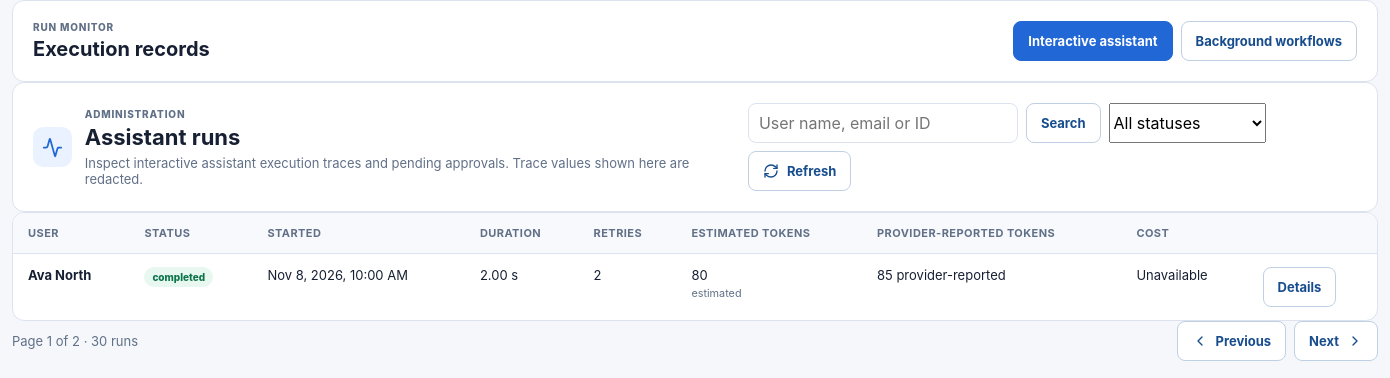
it: AdminAssistantRunsPage › paginates using server has_more and page totals
expect the table named "Assistant runs" is shown: met, box [13,213,1377,320]
expect the text "Page 1 of 2 · 30 runs" is shown: met, box [12,333,138,349]
Click the button with aria-label "Next page": [1336, 341] box [1294,321,1378,361]
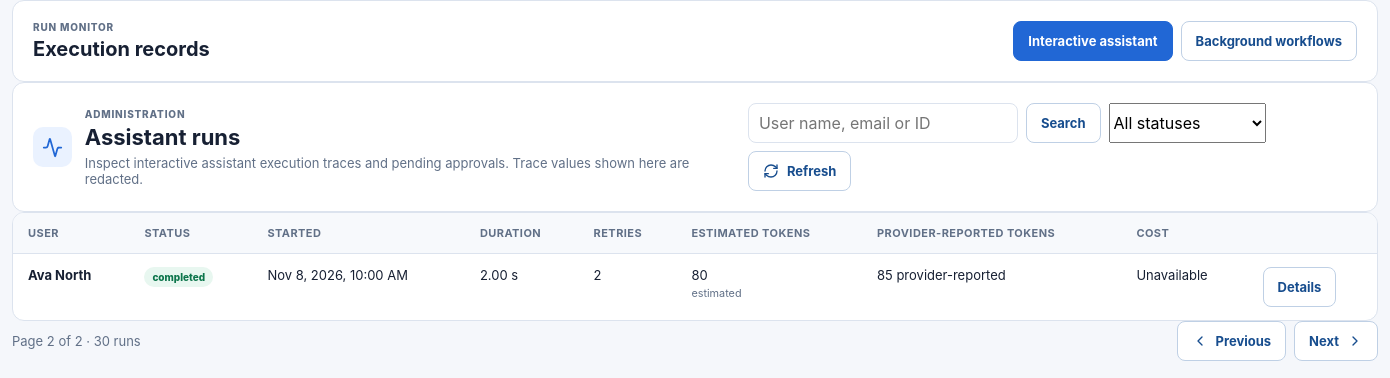
expect the button with aria-label "View run run-2" is shown: met, box [1263,267,1336,307]
expect the text "Page 2 of 2 · 30 runs" is shown: met, box [12,333,141,349]
